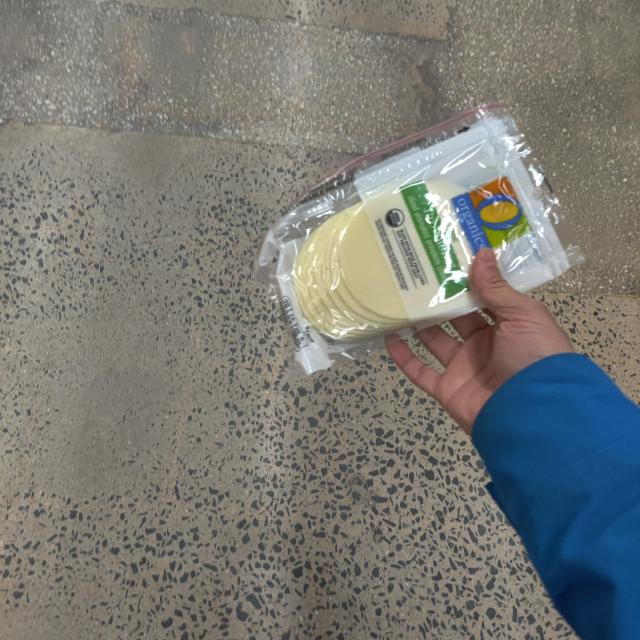Cheese: (257, 104, 570, 360)
